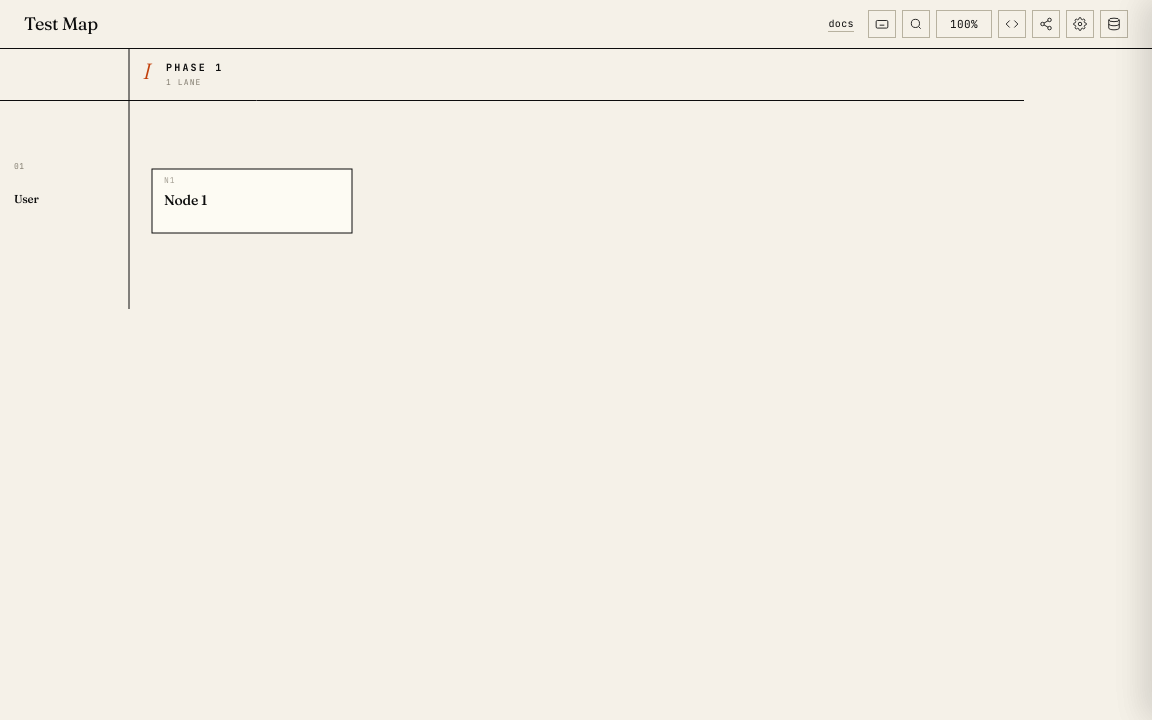
App — Database button › opens the Database panel when clicked
The image size is (1152, 720).
Click the button named "database" at (1114, 24), box top-left (1100, 10), bottom-right (1128, 38)
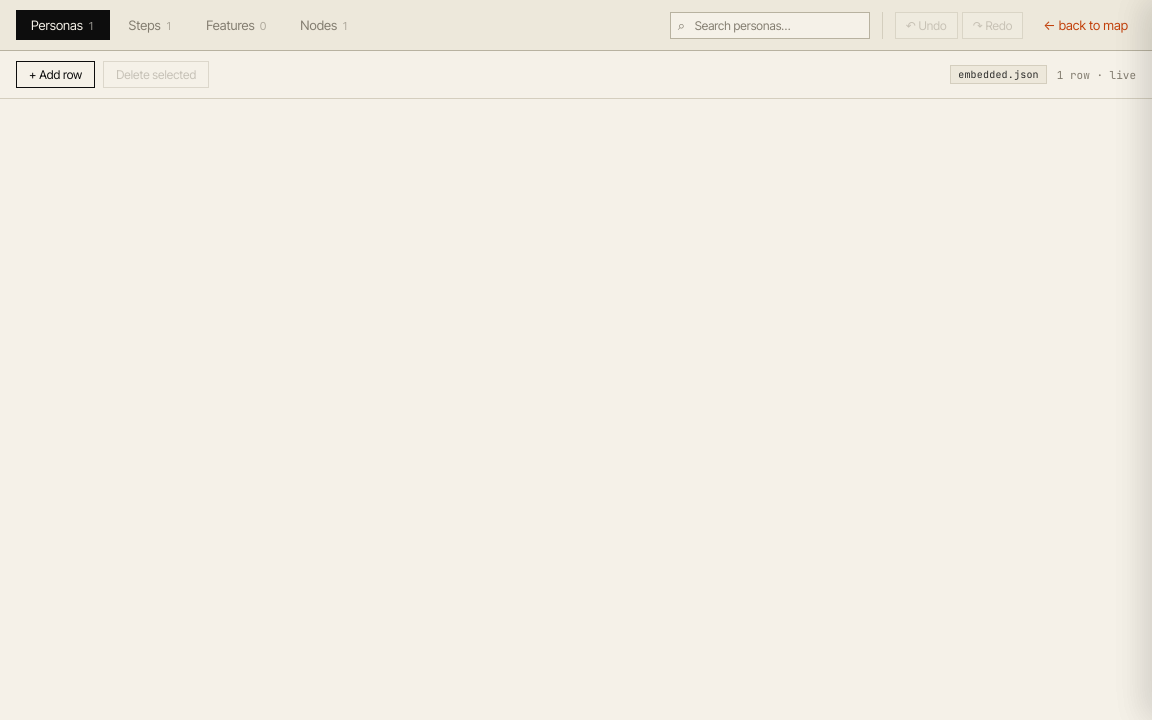
Expected: the dialog named "database editor" is shown
